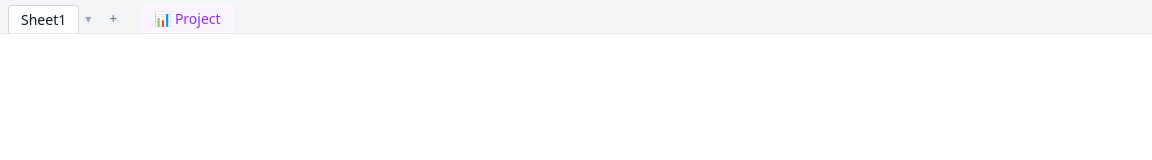
SheetTabs › actions menu › shows actions menu when the toggle button is clicked
Note: Click the dropdown toggle button (the small triangle)
Click the button titled "Sheet actions (Rename, Copy, Delete)" at (88, 19), box x1=79 y1=7 x2=97 y2=31
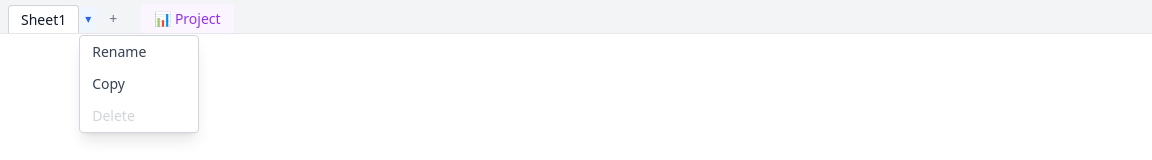
Result: the button "Rename" is shown at x1=80 y1=36 x2=198 y2=68
Result: the button "Copy" is shown at x1=80 y1=68 x2=198 y2=100
Result: the button "Delete" is shown at x1=80 y1=100 x2=198 y2=132
